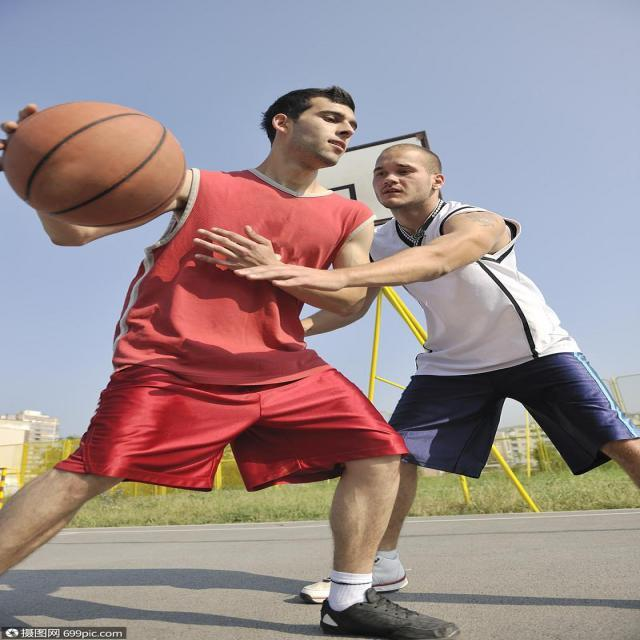rim: (12, 104, 186, 226)
